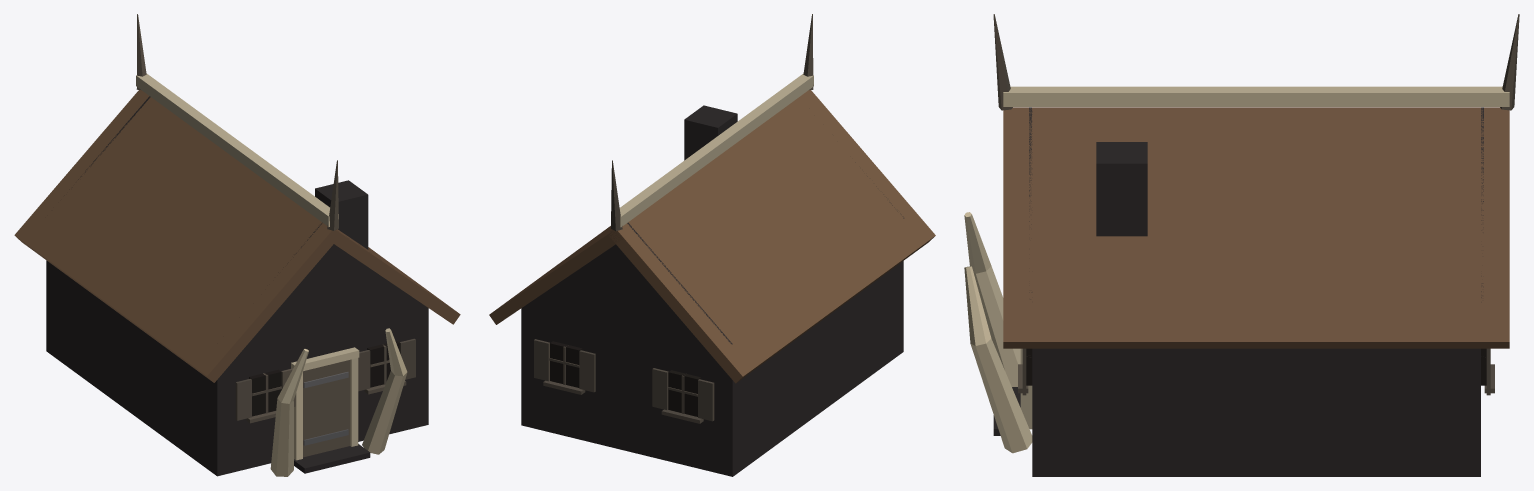
File: walk_ashen_row.glb
3 views of the same model, side by side, from view 1: azimuth 30°, elevation 25°; view 2: azimuth 150°, elevation 25°; view 3: azimuth 270°, elevation 25° (orthographic). The views are drawn at different scales.
Parts seen in each view (by area): view 1: walk_ashen_row_roof, walk_ashen_row; view 2: walk_ashen_row_roof, walk_ashen_row; view 3: walk_ashen_row_roof, walk_ashen_row.
Boxes of the visible parts, <box> form: walk_ashen_row_roof: <box>14,14,460,382</box>; walk_ashen_row: <box>46,260,428,476</box>; walk_ashen_row_roof: <box>489,14,935,383</box>; walk_ashen_row: <box>521,261,903,476</box>; walk_ashen_row_roof: <box>993,14,1519,348</box>; walk_ashen_row: <box>964,212,1494,476</box>.
Size of what is drawn, in the model's own units: 6 by 6.97 by 8.66.
Materials: 2 (2 with a texture image).
